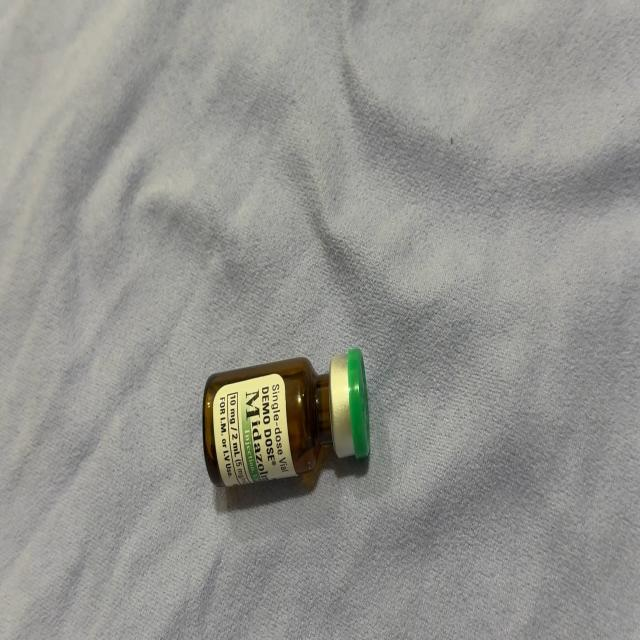midazolm: (206, 350, 367, 488)
